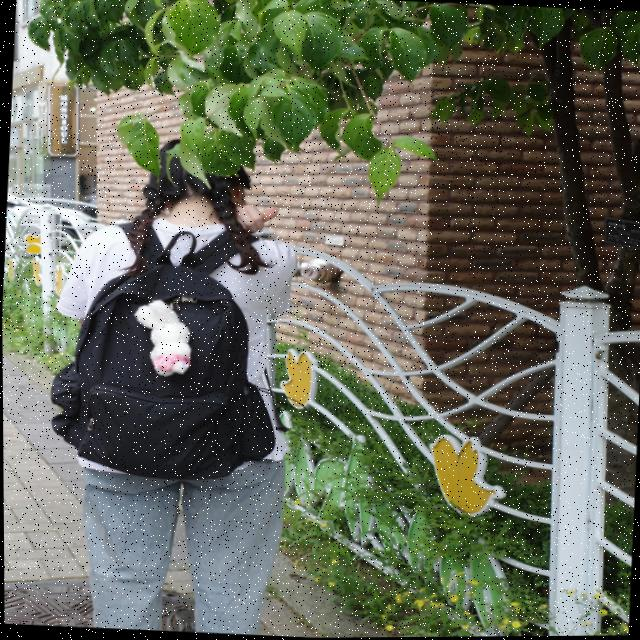backpack: (49, 243, 314, 486)
